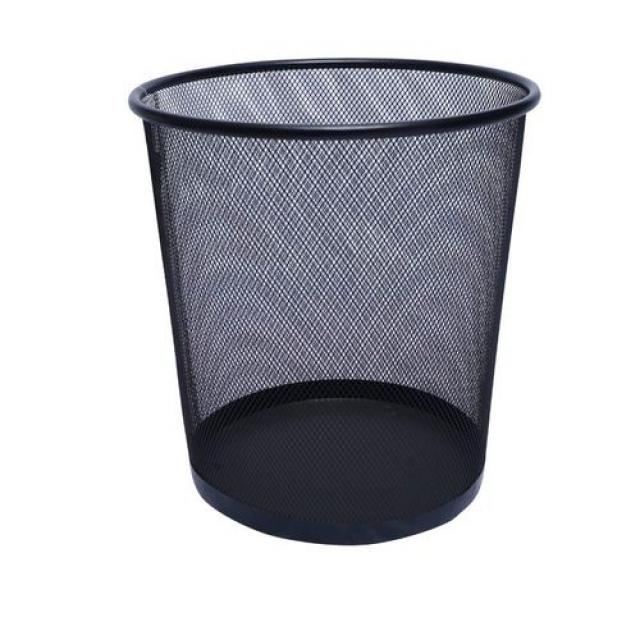Dustbin: (124, 49, 546, 553)
